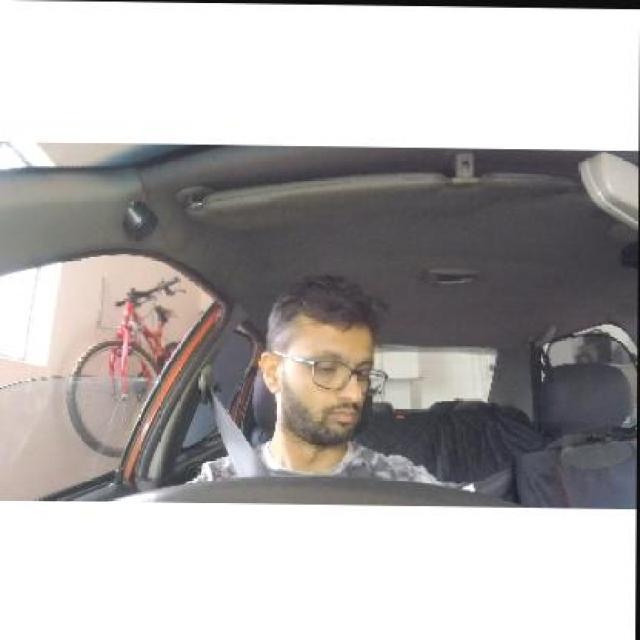drowsy: (258, 272, 389, 444)
